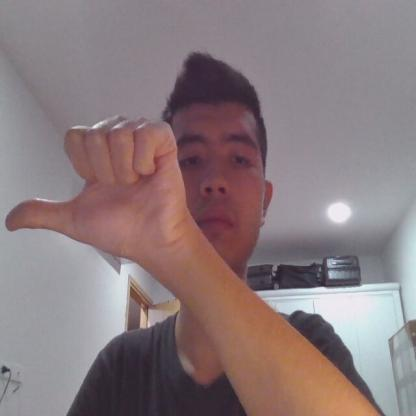right: (5, 113, 183, 268)
